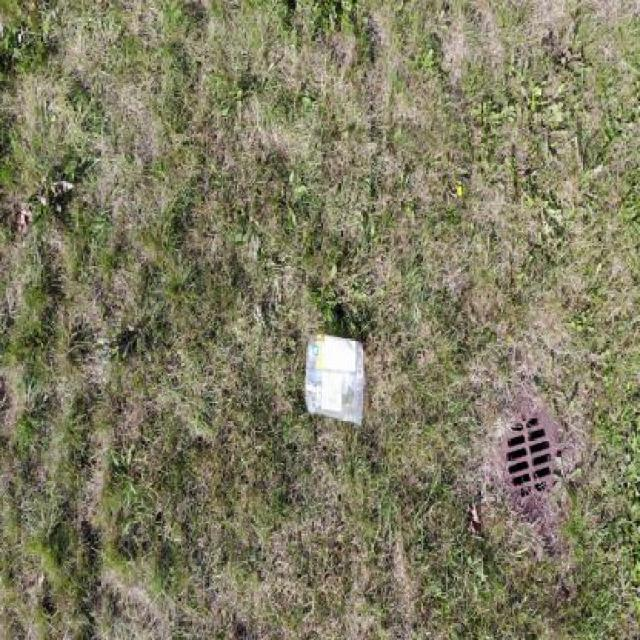Garbage: (305, 335, 365, 425)
